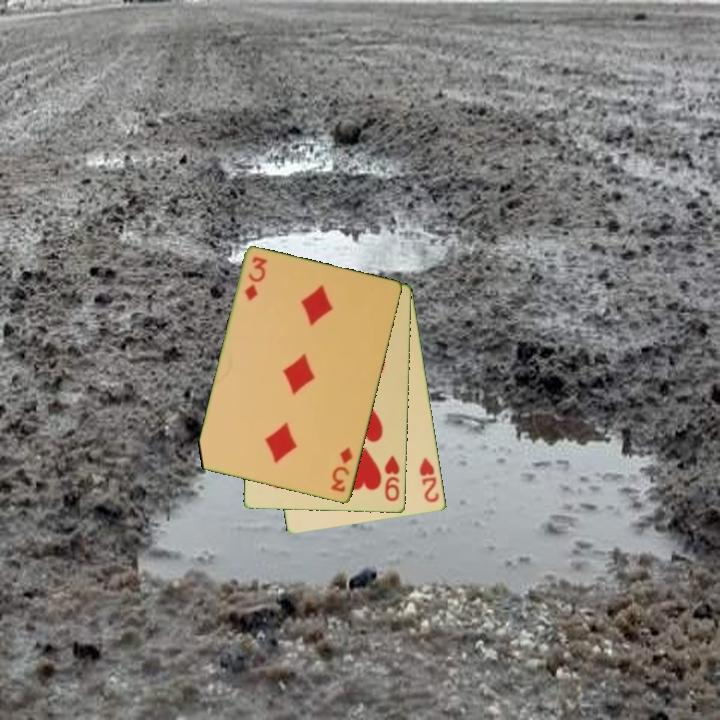2h: (416, 454, 442, 506)
3d: (327, 444, 356, 495), (241, 253, 270, 304)
9h: (381, 452, 403, 504)
